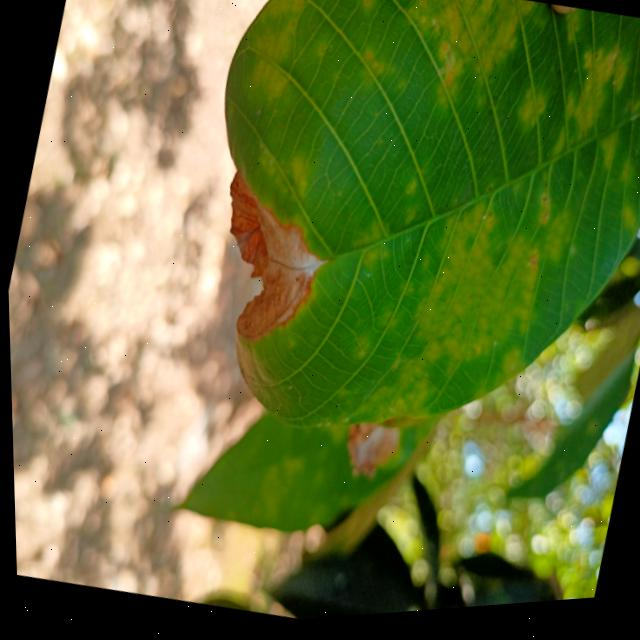Leaf-Blight: (194, 166, 348, 361), (334, 419, 402, 492)
